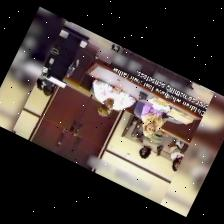person: (92, 78, 135, 115), (133, 130, 167, 157), (140, 103, 164, 136), (170, 139, 184, 170), (42, 83, 55, 95), (36, 77, 42, 89)
